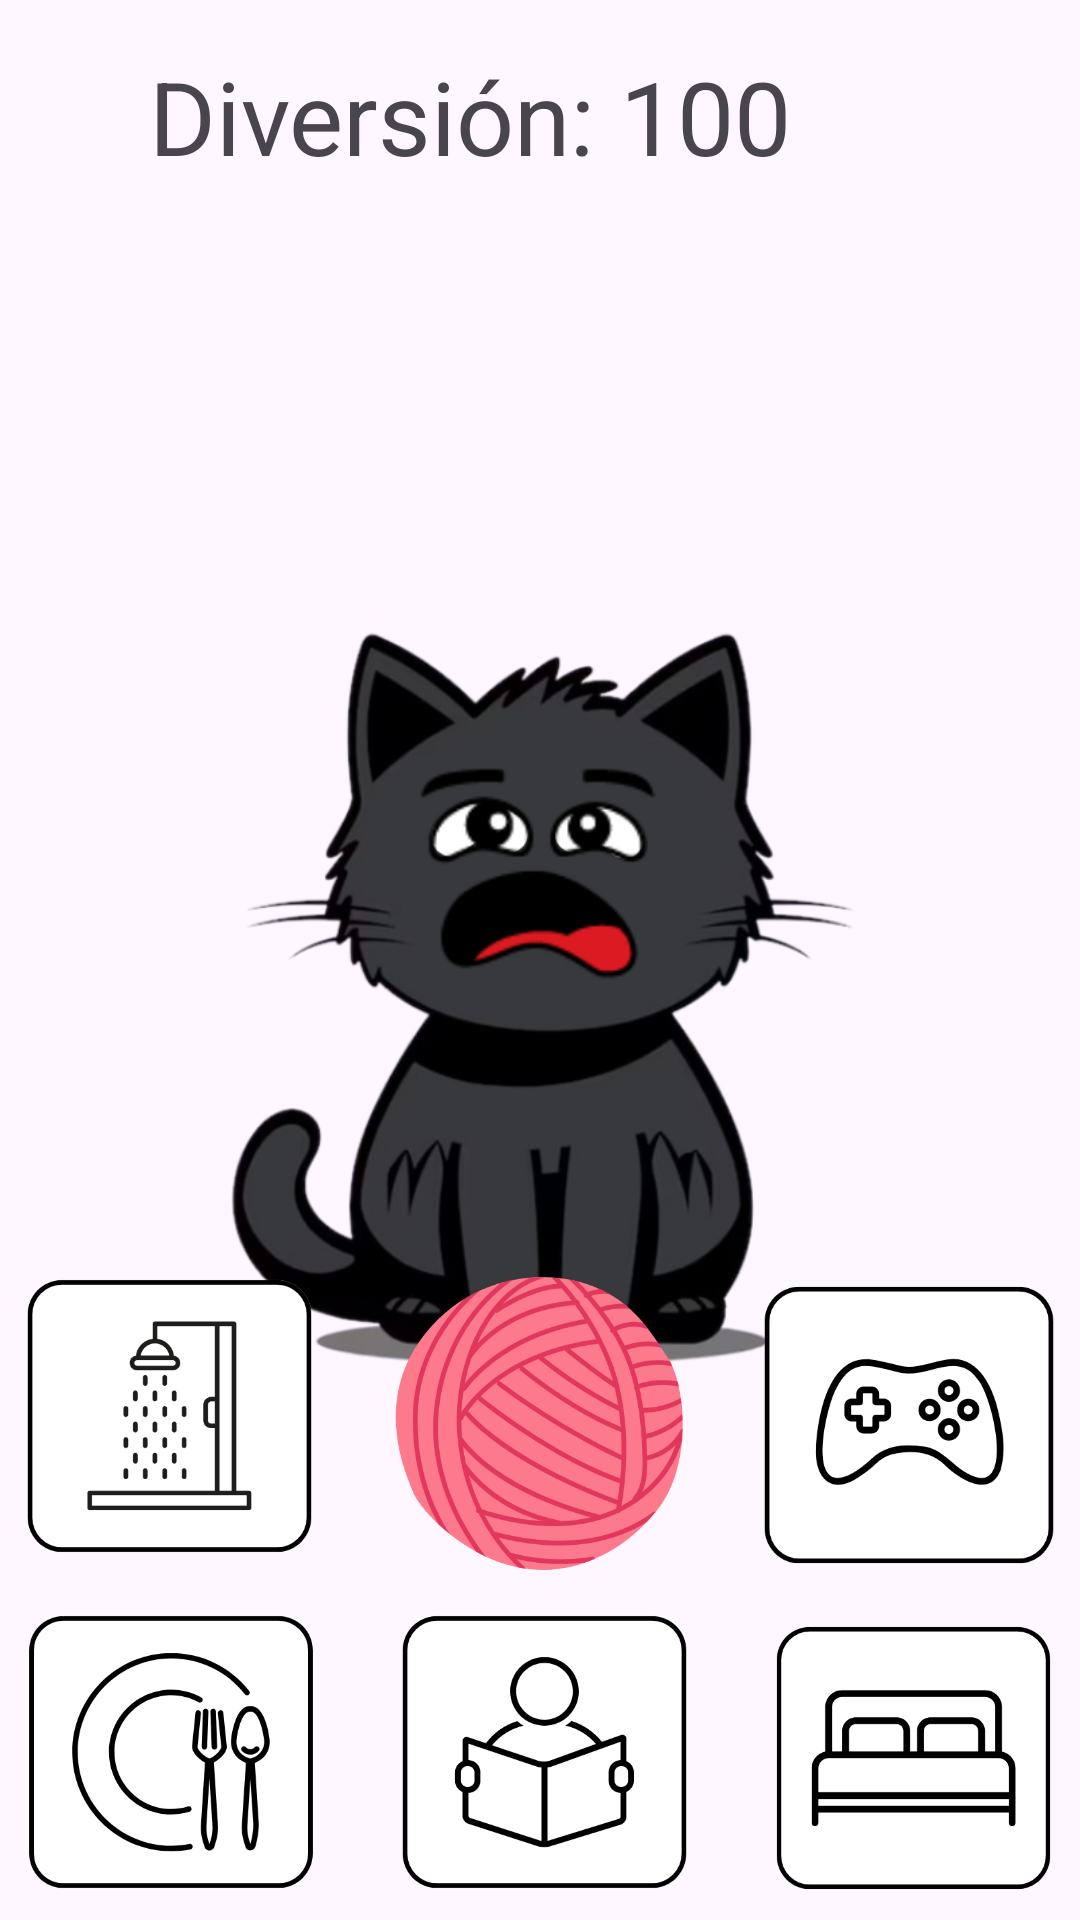

Icons on this 1080×1920 Android screen, each with its box as [x1,y1,x2,y2]:
botoncomedor: [29,1616,313,1888]
botondormitorio: [777,1627,1050,1889]
botonducha: [27,1248,339,1552]
botonestudio: [402,1616,687,1888]
botonsaladejuegos: [738,1254,1054,1564]
pelotajuego: [376,1263,700,1570]
